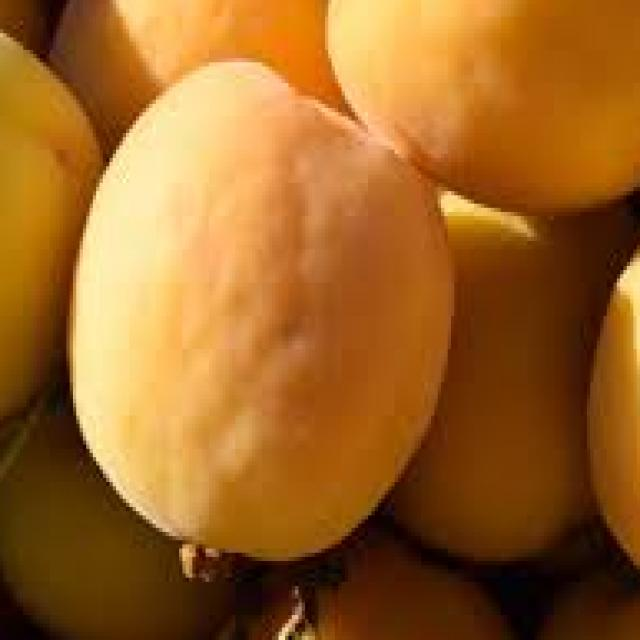inorganic: (35, 54, 506, 577)
